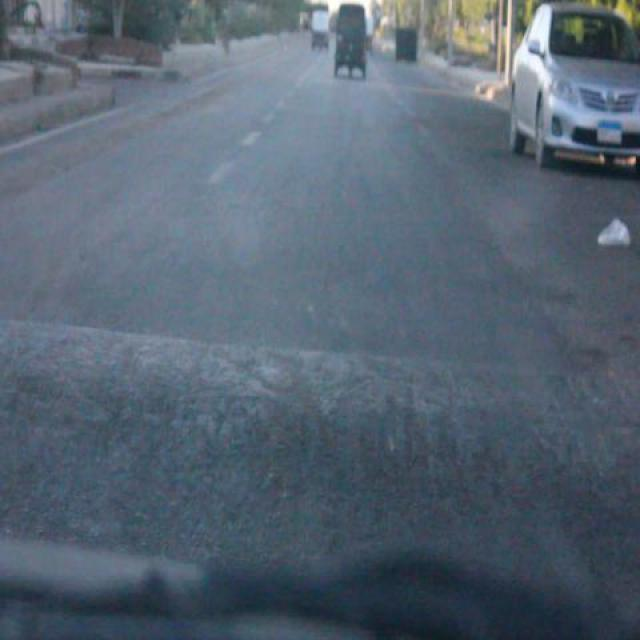Unmarked Bump: (0, 314, 640, 552)
